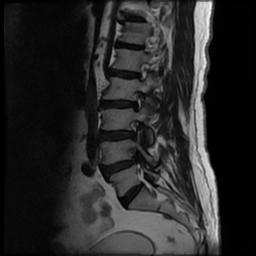RFS0: (133, 59, 151, 85)
RFS1: (127, 86, 147, 115)
RFS2: (123, 115, 146, 143)
